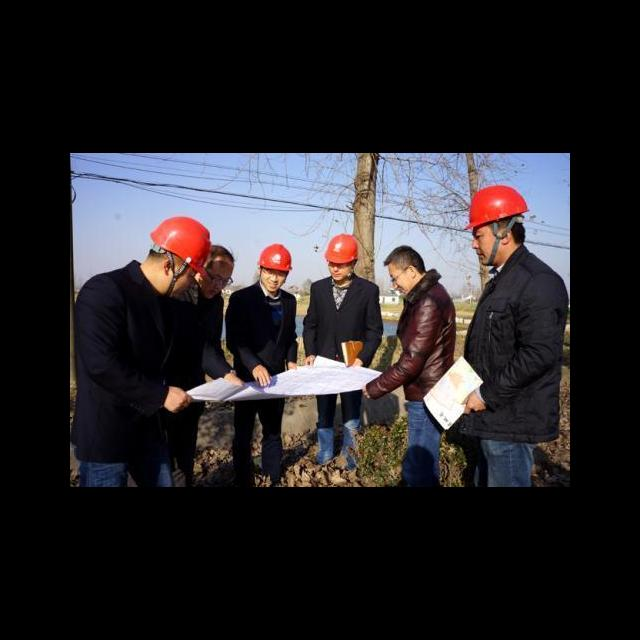Hardhat: (150, 217, 211, 279), (463, 186, 530, 230), (325, 233, 360, 264), (257, 244, 294, 272)
NO-Hardhat: (383, 246, 420, 264), (208, 244, 235, 268)
NO-Mask: (477, 237, 507, 266), (164, 279, 190, 297), (397, 275, 414, 296), (200, 282, 221, 299), (261, 279, 281, 293), (331, 270, 350, 282)
NO-Safety Vest: (82, 273, 181, 451), (472, 265, 565, 421), (403, 291, 455, 395), (315, 282, 371, 361), (240, 290, 290, 374), (189, 297, 208, 411)
Person: (77, 217, 209, 487), (459, 186, 570, 487), (364, 245, 455, 487), (302, 232, 384, 469), (224, 242, 297, 487), (177, 244, 235, 487)
